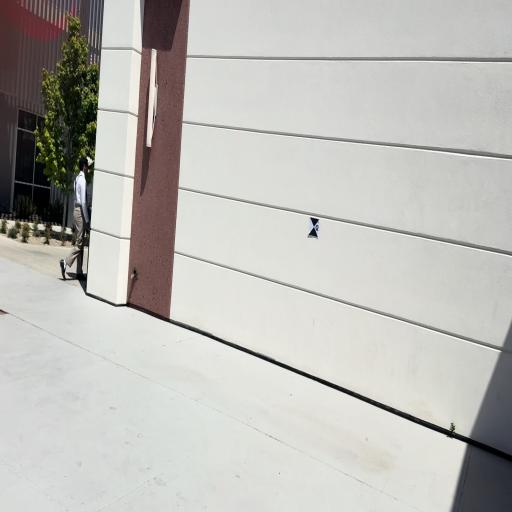target0: (308, 216, 319, 239)
